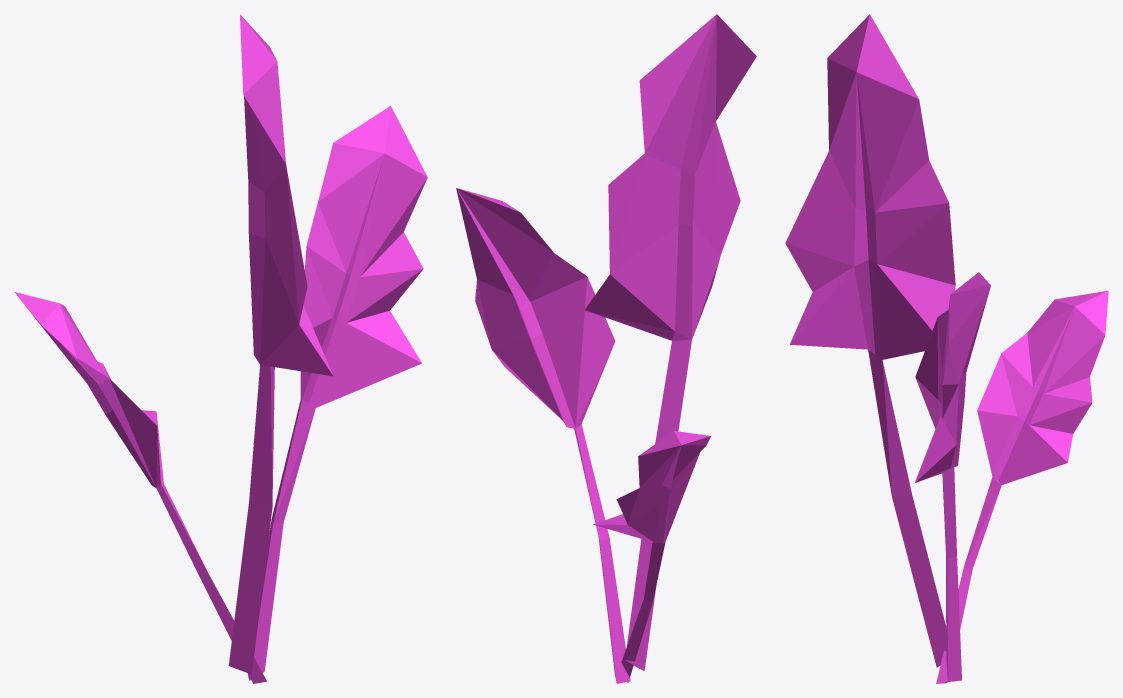
File: SM_Beetroot_Plant_Sapling.fbx
3 views of the same model, side by side, from view 1: azimuth 30°, elevation 25°; view 2: azimuth 150°, elevation 25°; view 3: azimuth 270°, elevation 25° (orthographic). The views are drawn at different scales.
Parts seen in each view (by area): view 1: SM_Beetroot_Plant_Sapling; view 2: SM_Beetroot_Plant_Sapling; view 3: SM_Beetroot_Plant_Sapling.
Part boxes in pixels (<box>): SM_Beetroot_Plant_Sapling: <box>14,14,427,683</box>; SM_Beetroot_Plant_Sapling: <box>456,14,756,683</box>; SM_Beetroot_Plant_Sapling: <box>785,14,1108,683</box>.
Size of the model in its own units: 0.165 by 0.3434 by 0.1561.
